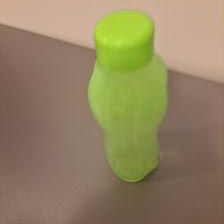bottle: (86, 10, 169, 183)
